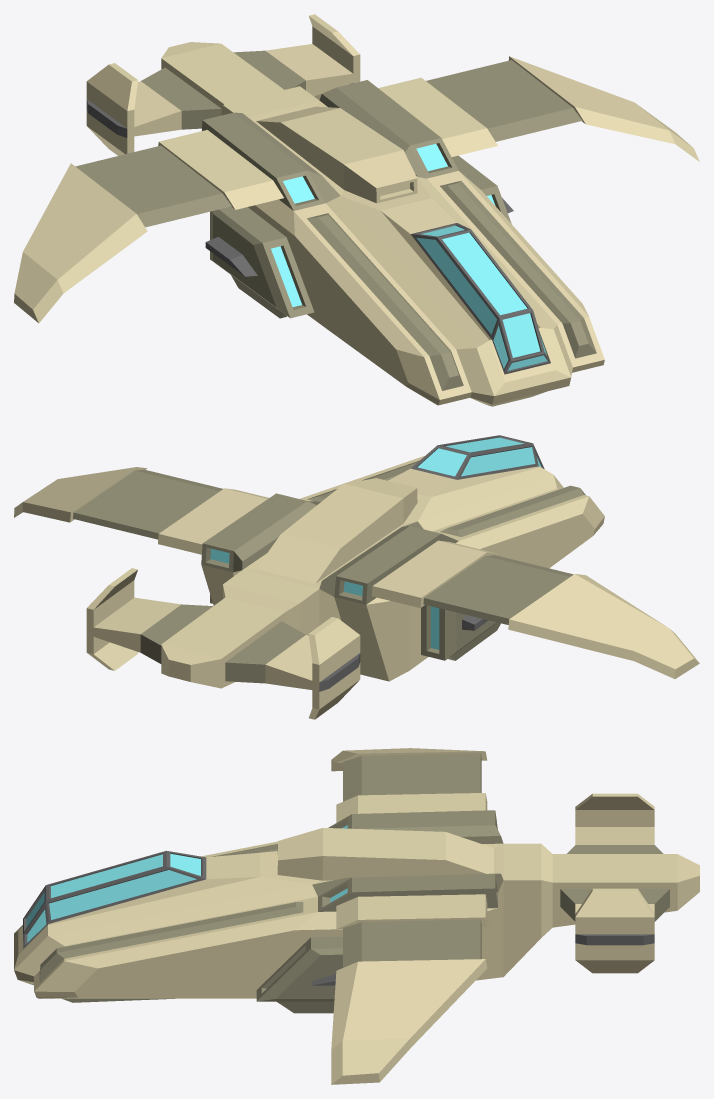
The model's file is SpaceFighterC.fbx.
3 renders of one model, top to bottom at view 1: azimuth 30°, elevation 25°; view 2: azimuth 150°, elevation 25°; view 3: azimuth 270°, elevation 25°, orthographic. The views are drawn at different scales.
Visible parts, largest first — view 1: BodyA, BodyB, Cockpit, BodyC, EngineGlow; view 2: BodyA, BodyB, Cockpit, BodyC, EngineGlow; view 3: BodyA, BodyB, Cockpit, BodyC.
Part boxes in pixels (x1,y1,x2,y2): BodyA: (14,14,699,406); BodyB: (75,50,596,390); Cockpit: (416,225,547,370); BodyC: (86,99,550,374); EngineGlow: (271,144,495,306); BodyA: (14,456,699,719); BodyB: (73,460,585,683); Cockpit: (417,437,541,476); BodyC: (319,435,544,691); EngineGlow: (210,548,439,649); BodyA: (14,748,699,1084); BodyB: (39,753,669,1013); Cockpit: (26,853,200,942); BodyC: (23,850,654,985).
Size of the model in its own units: 561 by 119 by 519.
